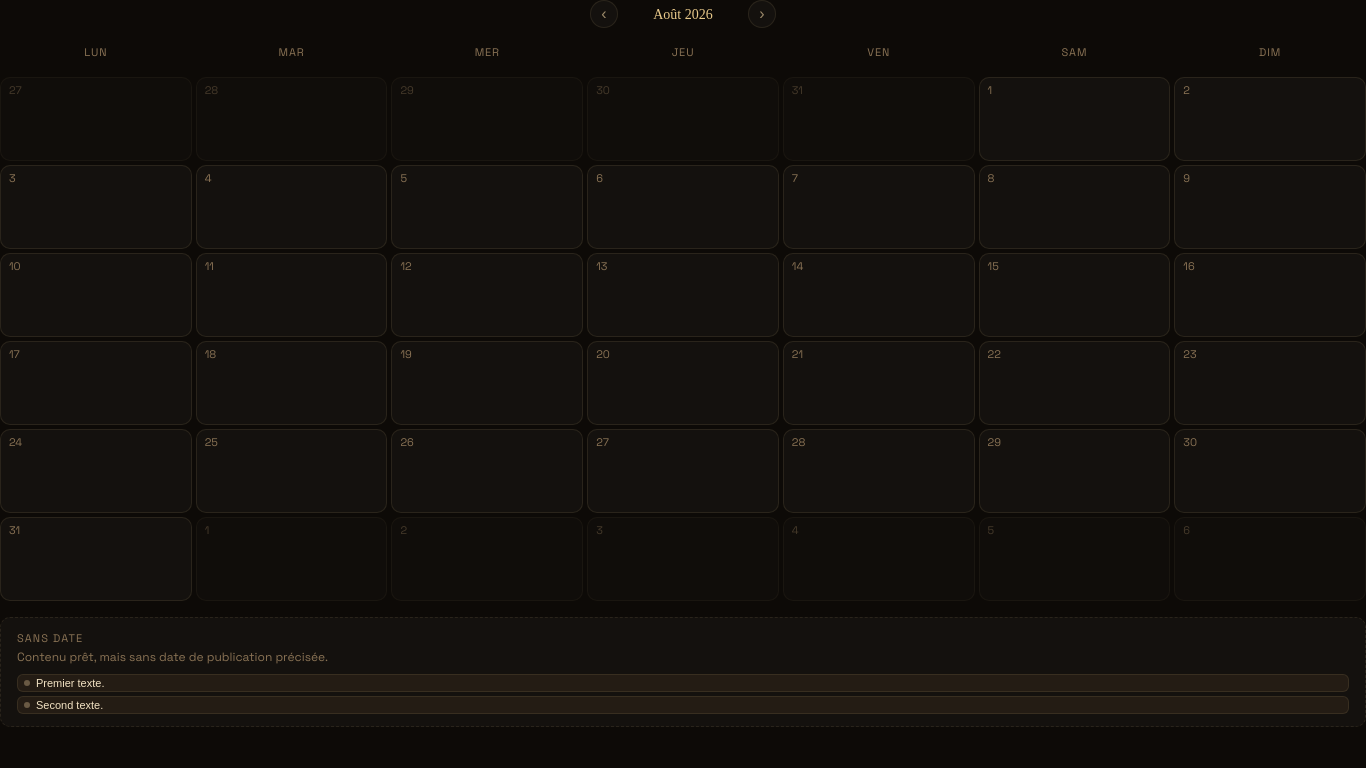
it: resets the edit when a different item is opened
Click the button "Premier texte." at point(70, 683), box [17,674,1349,692]
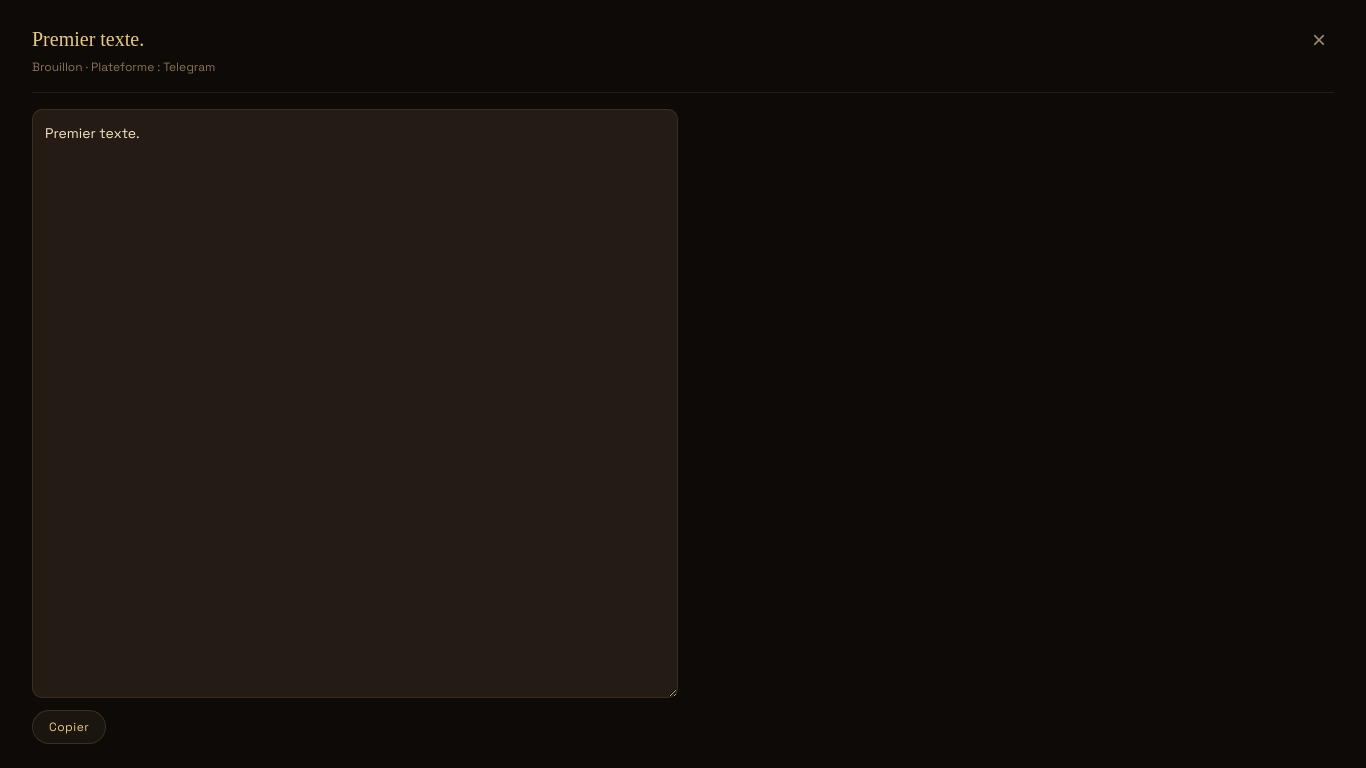
Replace the text in the text box with "Édité, mais je ferme sans copier." at point(355, 404), box [32,109,678,698]
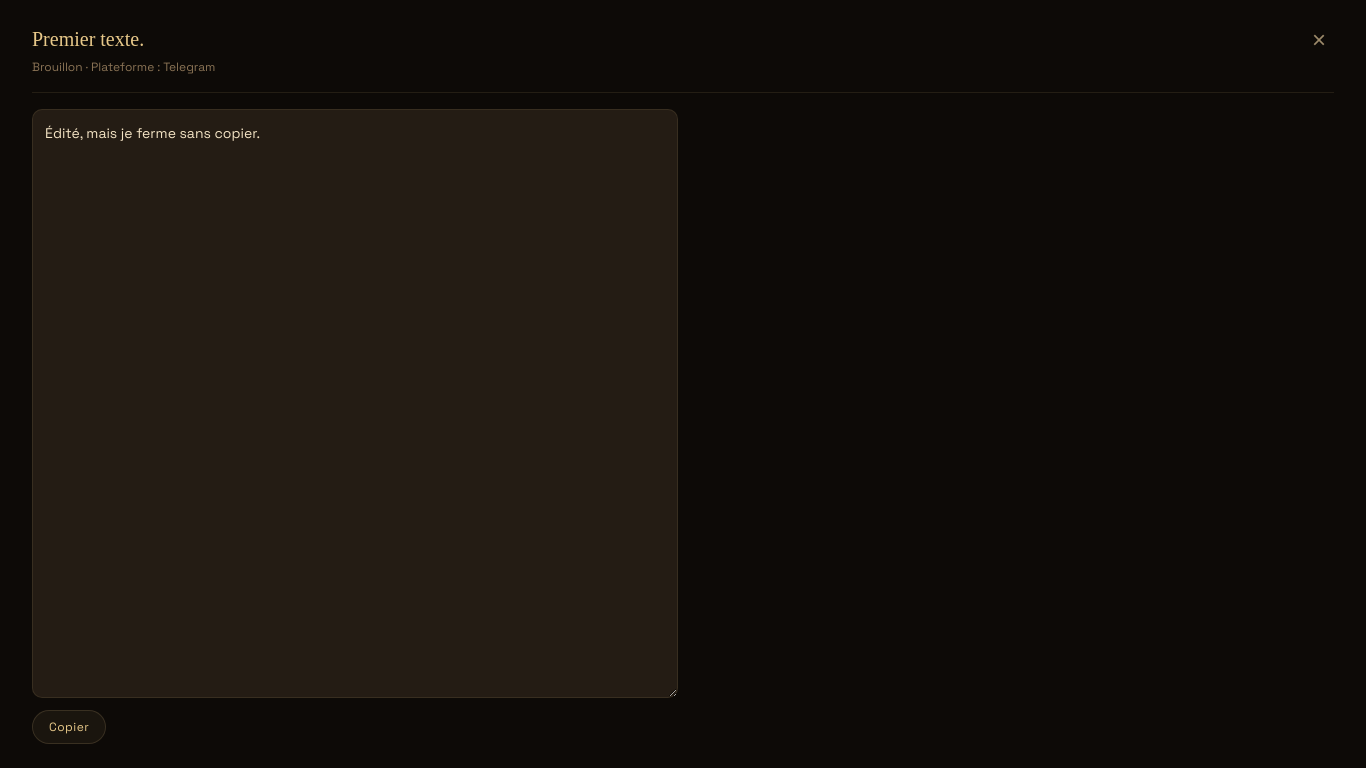
Click the button named "Fermer" at point(1319, 40), box [1304,24,1334,56]
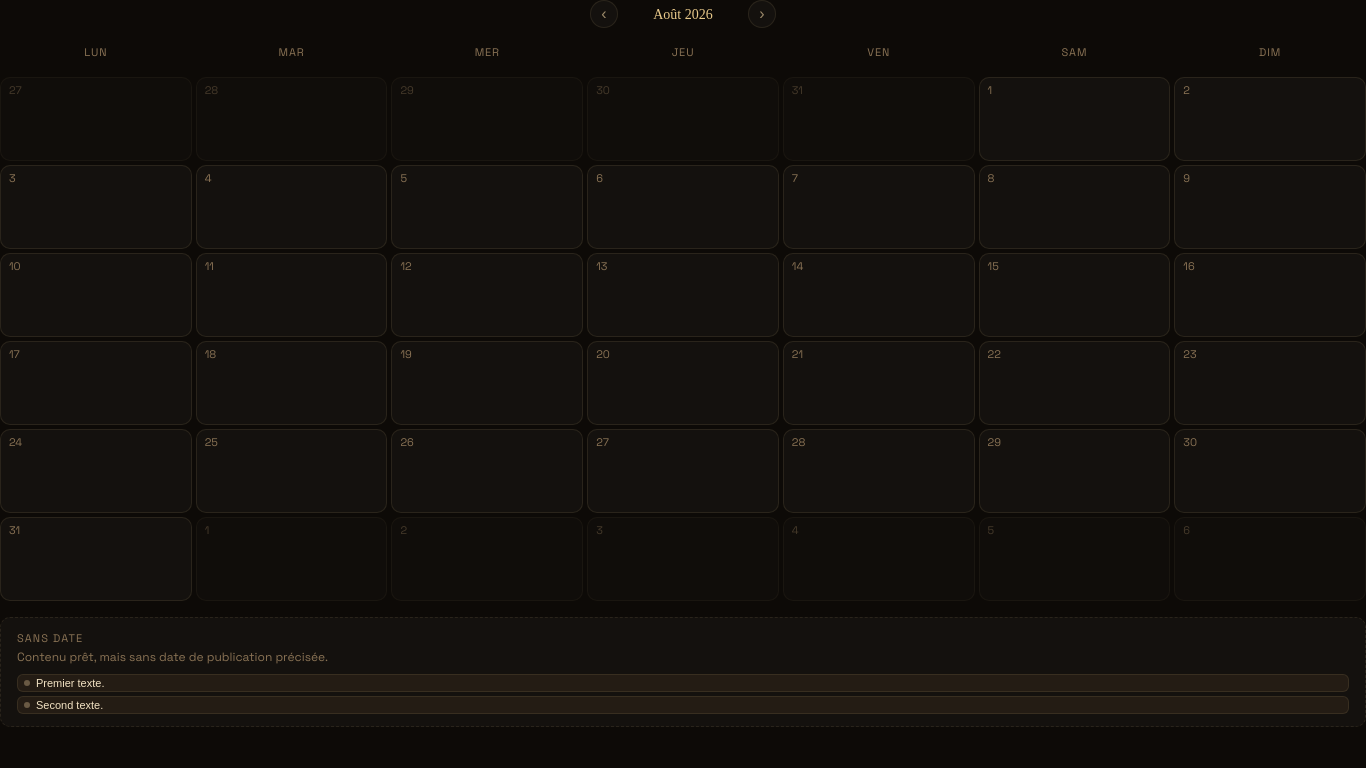
Click the button "Second texte." at point(70, 705), box [17,696,1349,714]
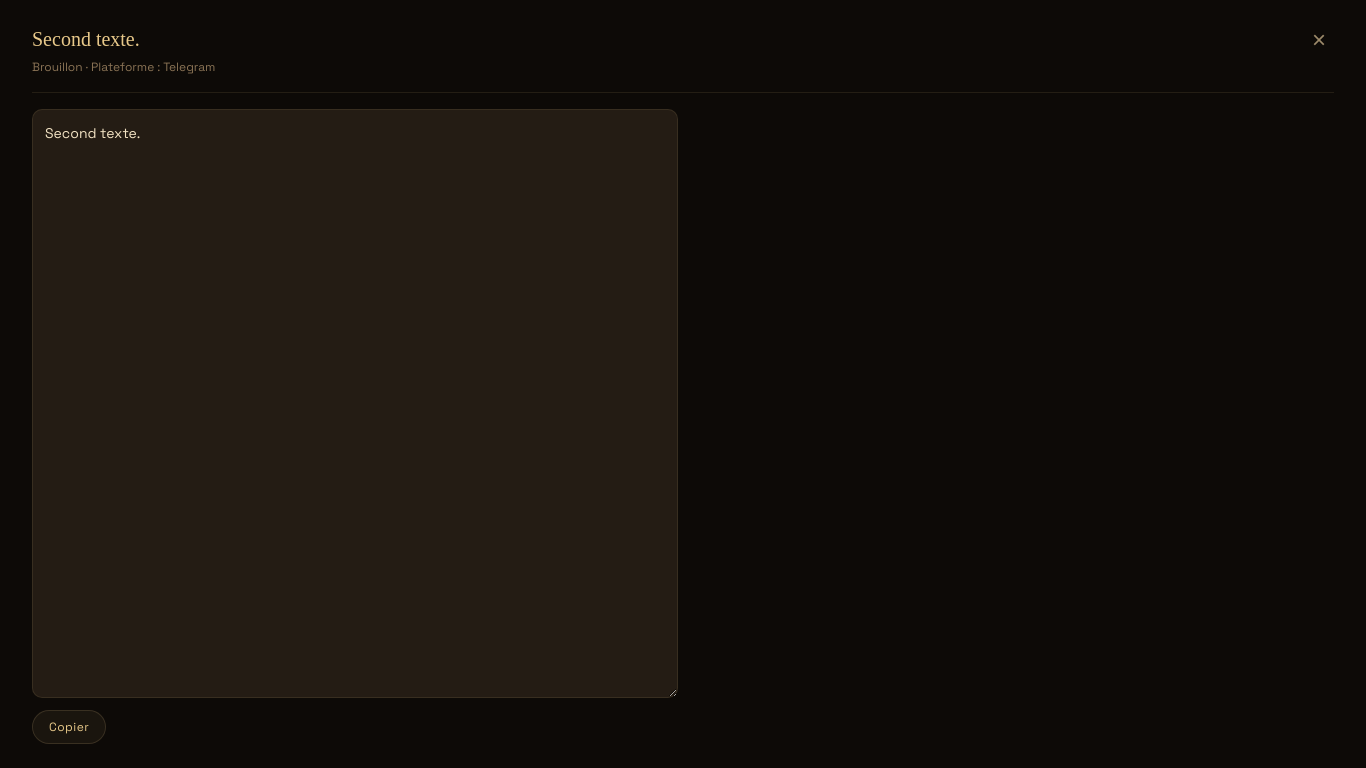
Expected: the text box holds "Second texte.", [32,109,678,698]
